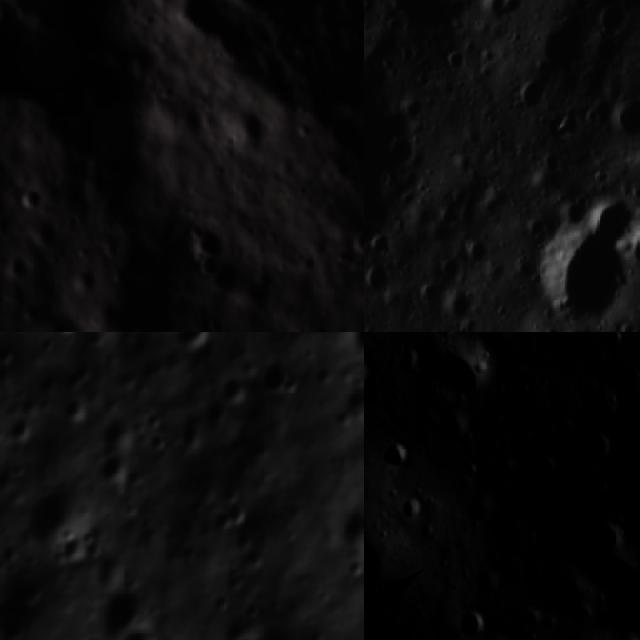crater: (532, 229, 631, 332), (83, 564, 163, 640), (12, 477, 88, 556), (531, 3, 595, 69), (248, 341, 306, 406), (199, 611, 321, 640), (323, 488, 364, 567), (85, 444, 139, 501), (450, 335, 490, 409), (585, 193, 640, 246), (202, 490, 256, 543), (378, 0, 467, 32), (226, 96, 276, 150), (209, 368, 260, 416), (603, 85, 640, 150), (186, 214, 238, 259), (101, 610, 179, 640), (0, 431, 21, 537), (160, 332, 222, 362), (18, 213, 64, 251), (0, 408, 41, 450), (54, 385, 97, 425), (556, 192, 596, 234), (8, 180, 51, 217), (438, 286, 477, 326), (513, 73, 548, 114), (459, 235, 496, 272), (450, 607, 492, 638), (592, 0, 627, 37), (384, 130, 416, 170), (477, 0, 526, 26), (364, 260, 396, 299), (365, 231, 401, 264), (335, 332, 364, 372), (437, 42, 470, 74), (587, 426, 614, 464), (142, 427, 172, 459), (624, 223, 640, 280), (396, 96, 428, 124), (42, 332, 97, 348), (385, 435, 413, 464), (0, 337, 22, 371), (400, 495, 425, 523), (140, 408, 164, 436), (474, 567, 498, 595), (597, 520, 618, 548), (462, 460, 482, 481)
